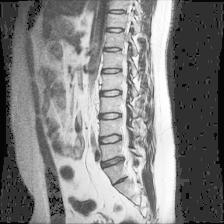disc: (96, 110, 123, 124), (98, 132, 124, 146), (98, 65, 125, 78), (98, 87, 124, 100), (100, 43, 125, 55), (104, 24, 127, 36), (108, 8, 130, 18)
hdisc: (100, 154, 126, 168)
